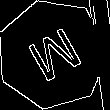M_SE: (20, 21, 85, 87)
